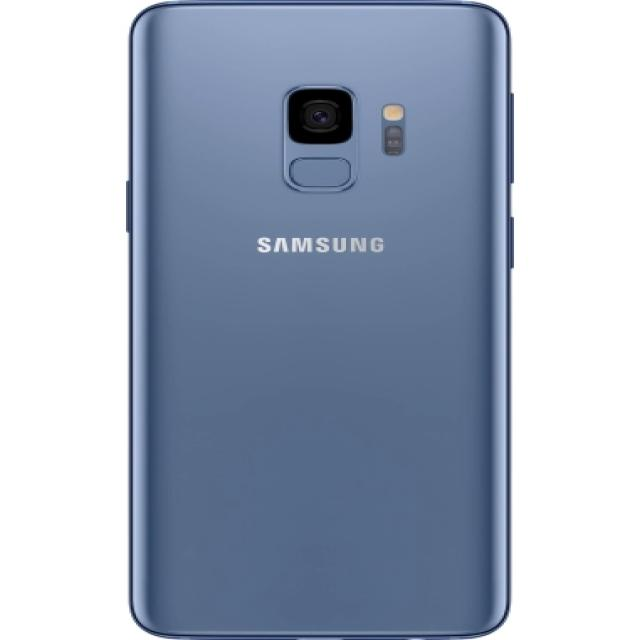mobile phone: (124, 0, 514, 639)
